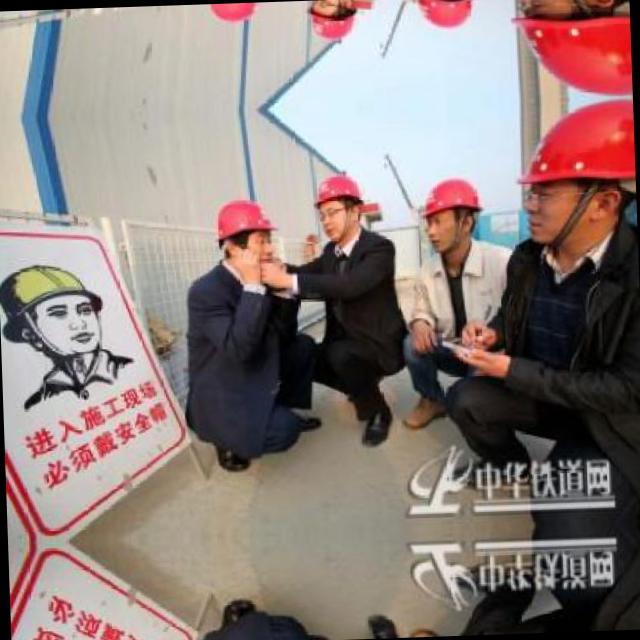helmet: (512, 96, 636, 249), (507, 0, 631, 99), (211, 188, 275, 272), (420, 176, 484, 255), (309, 167, 369, 247), (302, 0, 362, 45), (204, 2, 268, 30), (413, 0, 477, 28)
